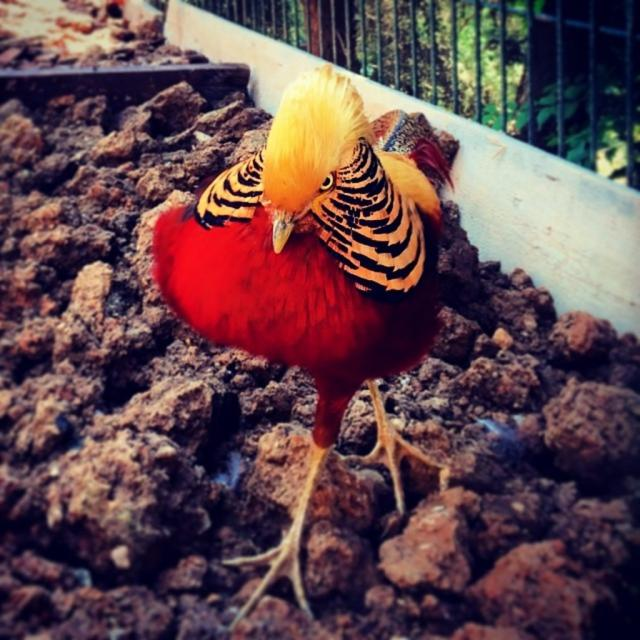Chicken: (152, 73, 444, 610)
